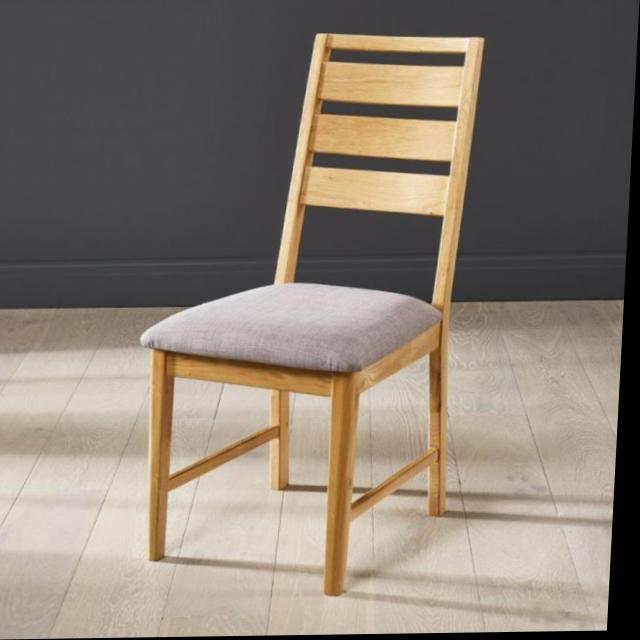Chair: (136, 31, 485, 600)
